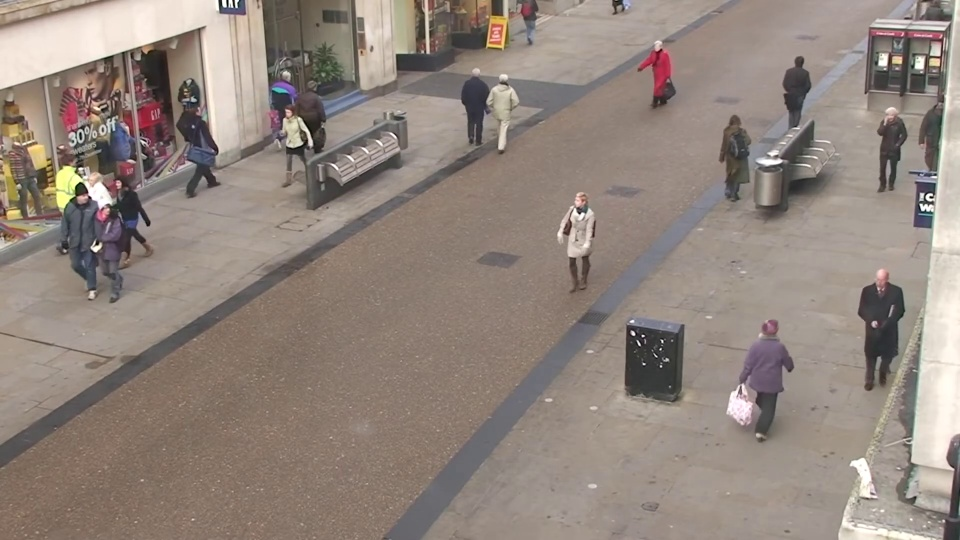pedestrian: (850, 268, 905, 406), (745, 301, 797, 446), (78, 195, 129, 310), (55, 185, 107, 296), (67, 169, 116, 276), (95, 171, 143, 279), (60, 144, 108, 245), (557, 193, 594, 311), (864, 107, 905, 203), (269, 103, 304, 194), (187, 96, 223, 184), (719, 109, 752, 204), (302, 74, 333, 157), (783, 53, 814, 133), (277, 64, 307, 144), (464, 63, 493, 144), (493, 66, 521, 148), (641, 39, 666, 114)
